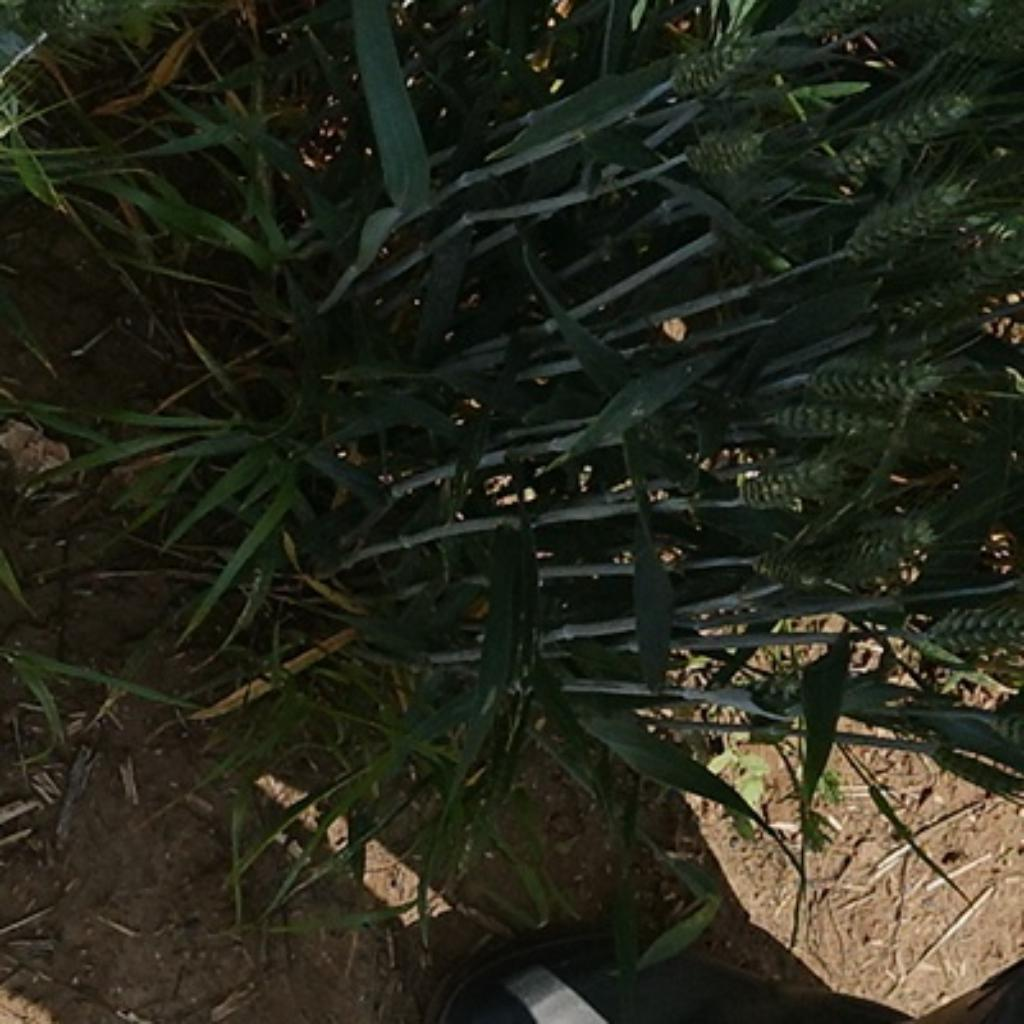0-0: (811, 89, 962, 186), (734, 527, 952, 586), (829, 184, 980, 268), (657, 20, 788, 99), (870, 261, 990, 340), (852, 0, 983, 57), (665, 122, 775, 186), (806, 353, 947, 401), (732, 450, 832, 509), (767, 400, 898, 445), (929, 600, 1022, 656), (926, 752, 1024, 796), (788, 2, 860, 53), (974, 6, 1024, 68)
